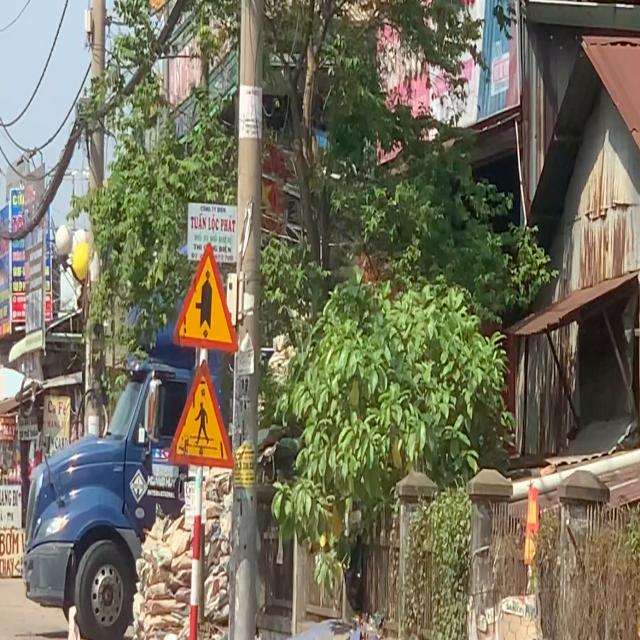Giao voi duong khong uu tien: (172, 241, 240, 354)
Nguoi di bo cat ngang: (166, 358, 234, 471)
